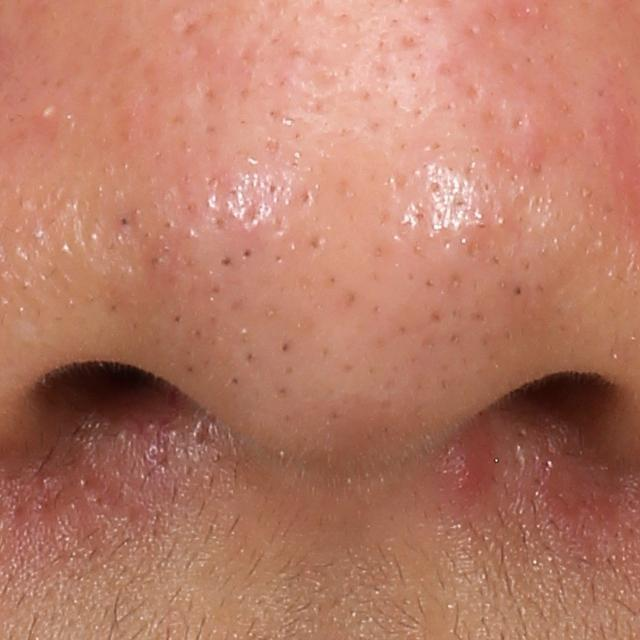comedo: (239, 243, 255, 262)
papule: (438, 420, 508, 506)
pustule: (35, 100, 58, 123)
